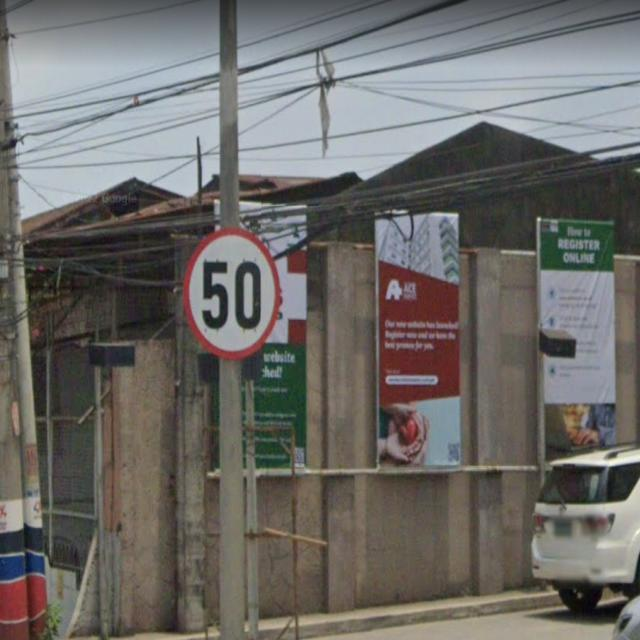50 kph: (182, 228, 280, 358)
